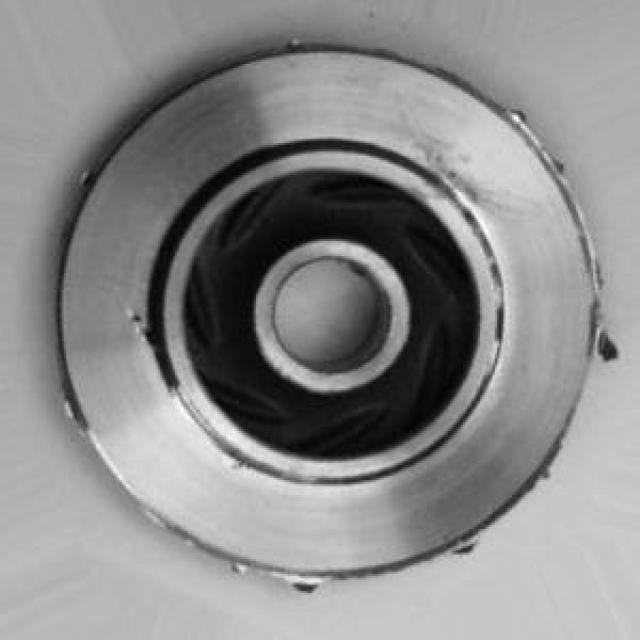Defect: (429, 135, 492, 207), (119, 298, 164, 356), (596, 324, 626, 374)
